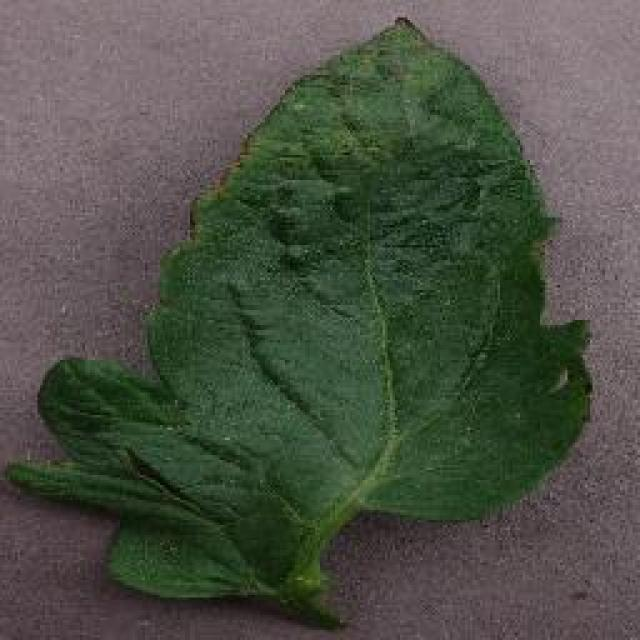Tomato bacterial spot leaf: (10, 22, 592, 618)
